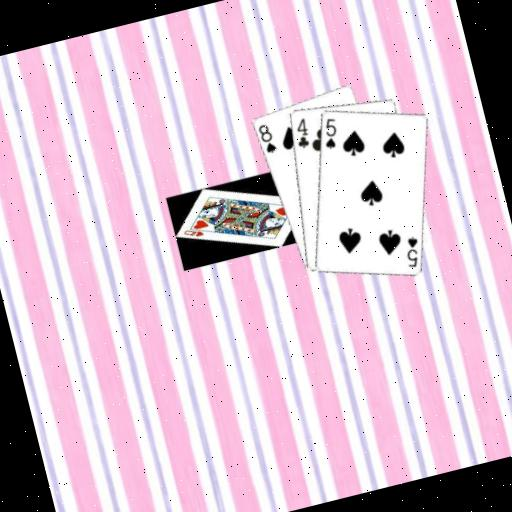4C: (288, 114, 313, 151)
5S: (316, 113, 344, 152), (398, 232, 426, 270)
8S: (254, 120, 279, 157)
